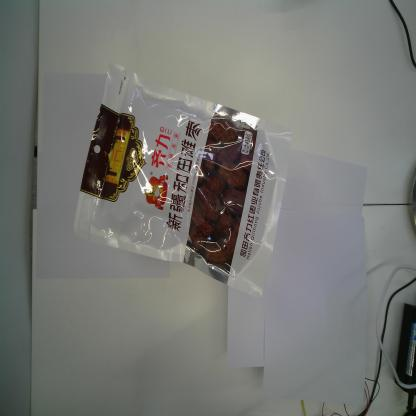Dried Food: (71, 58, 294, 302)
